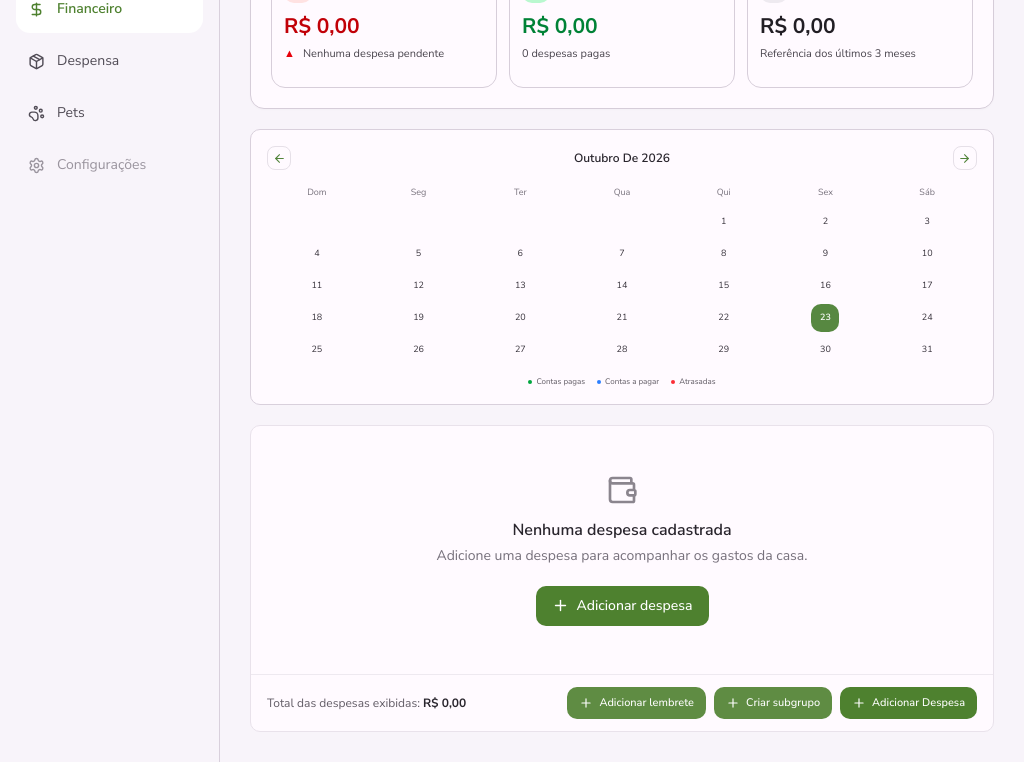
Test: FinancePage expense CRUD › shows a server validation error in the expense form
(page scrolled)
expect the heading "Nenhuma despesa cadastrada" is shown: met, box [512,518,732,540]
Click the button "Adicionar despesa": (622,606) [536,586,708,626]
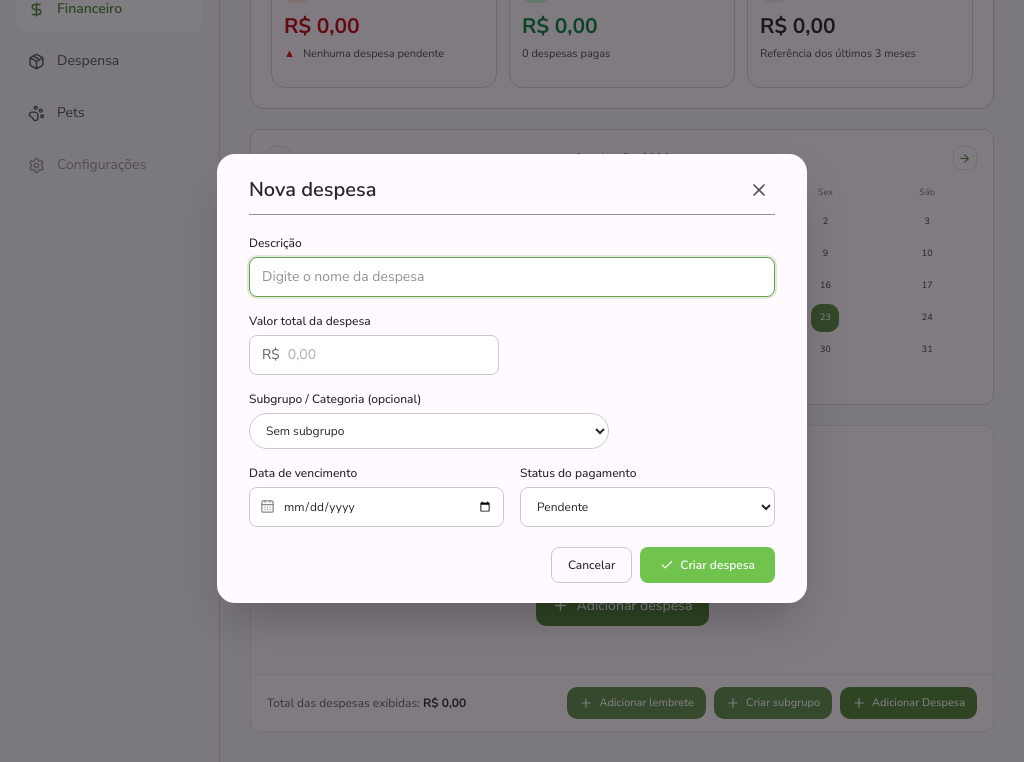
In the field labelled "Descrição": (512,276) [249,256,775,296], type "Internet"
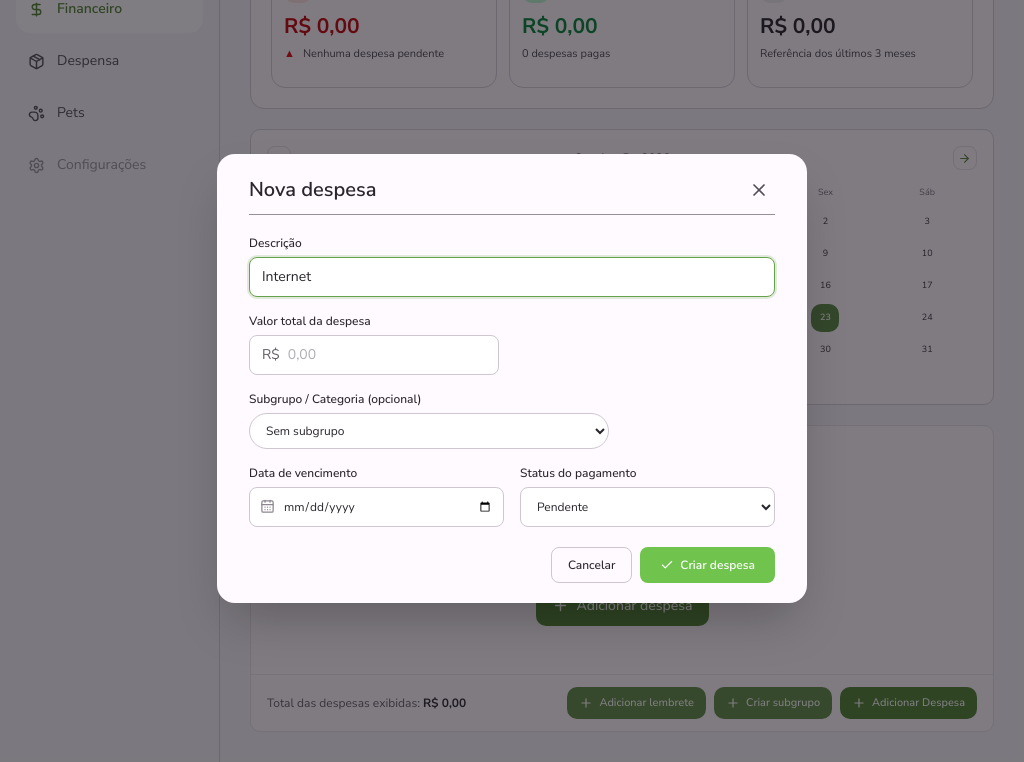
In the field labelled "Valor total da despesa R$": (387,354) [288,344,486,364], type "120,00"
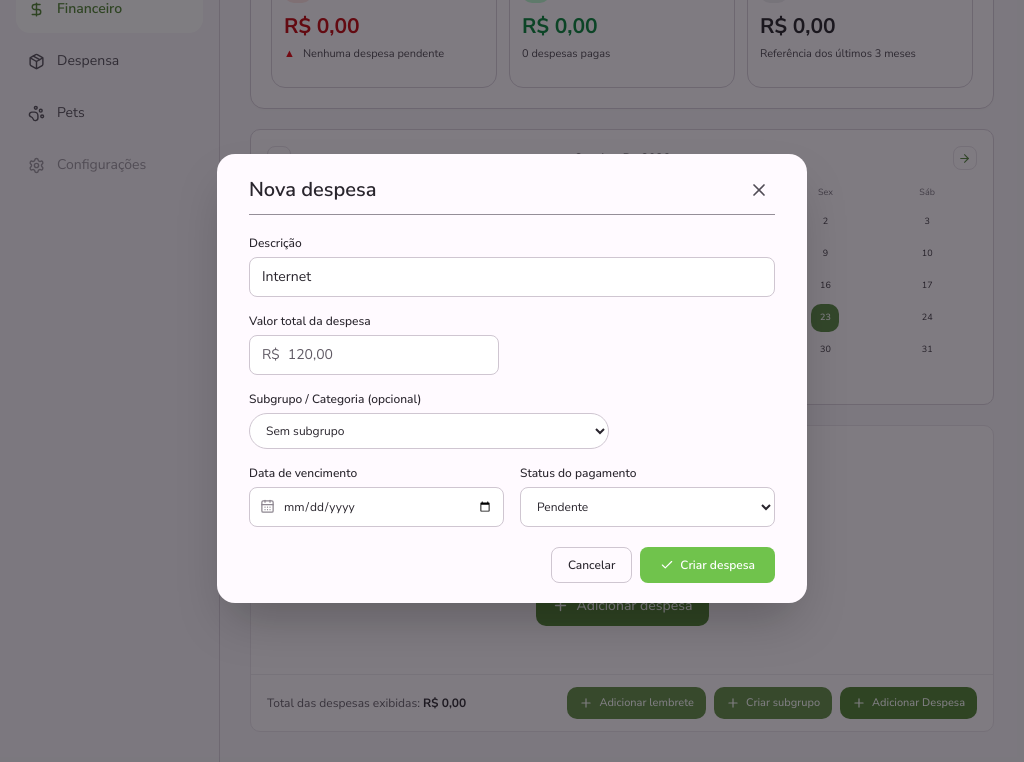
In the date field labelled "Data de vencimento": (388,506) [283,498,493,514], type "2026-10-12"
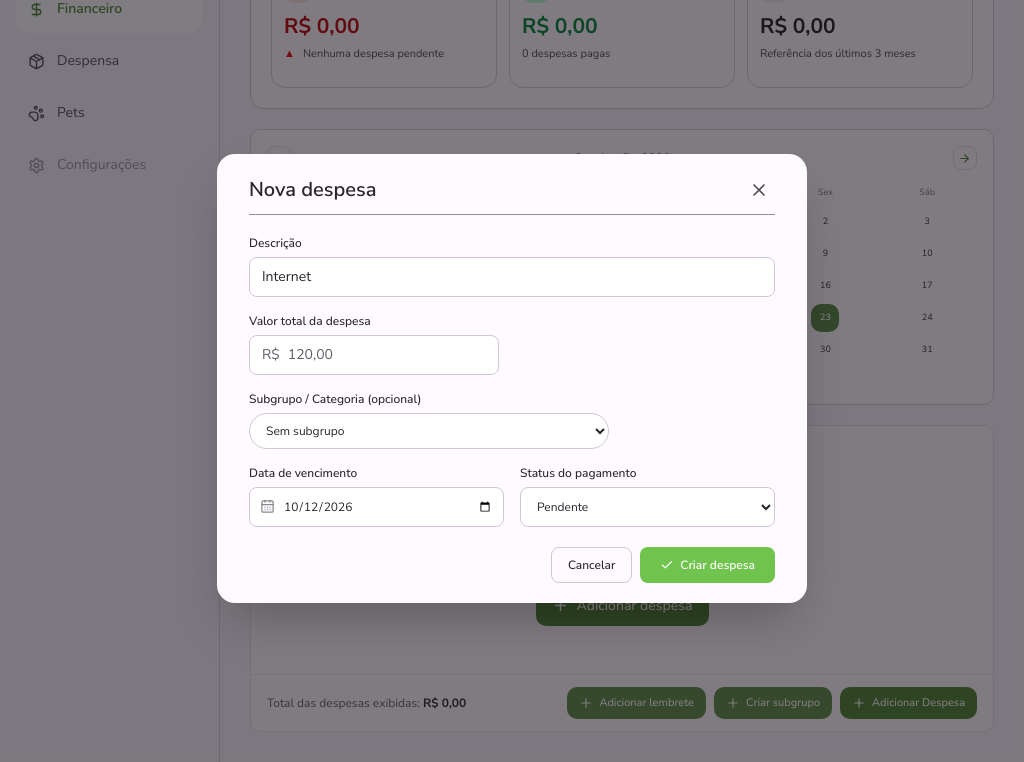
Click the button "Criar despesa": (708,564) [640,546,775,582]
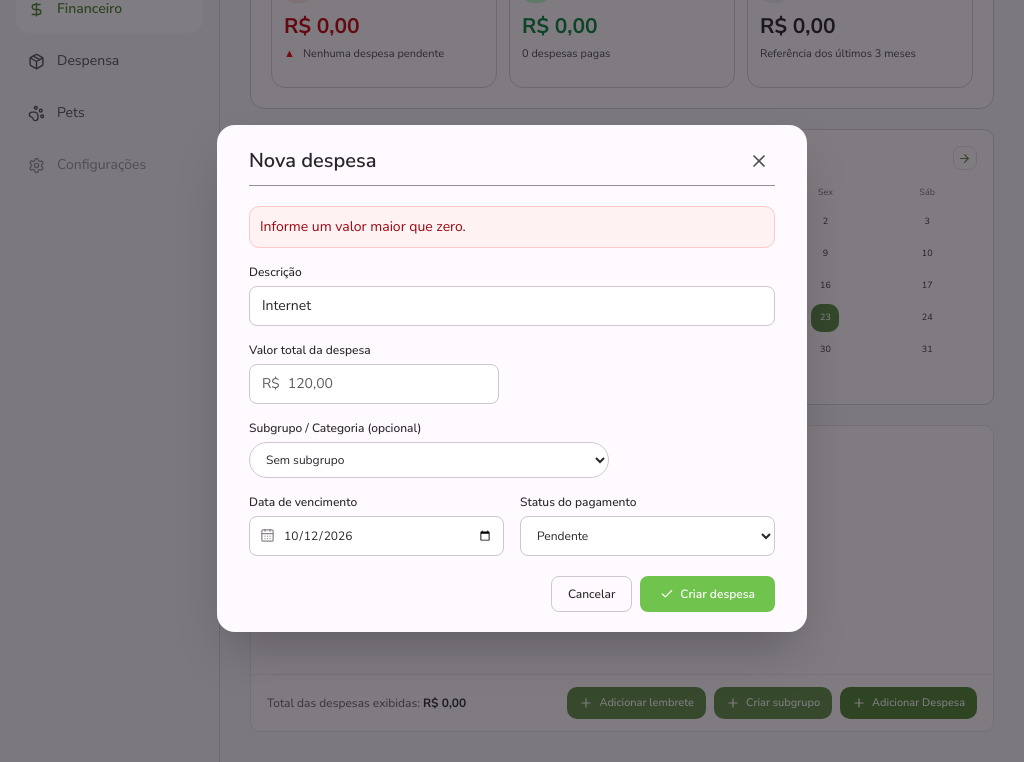
expect the message reads "Informe um valor maior que zero.": met, box [260,216,466,236]
